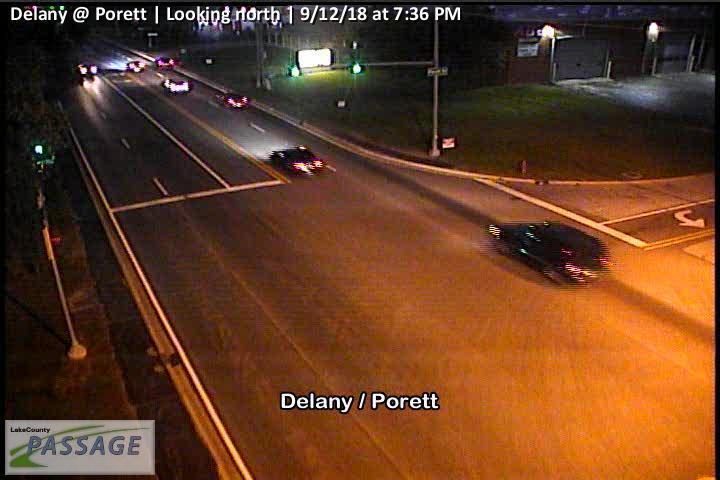SUV: (489, 221, 611, 288)
Sedan: (270, 146, 327, 177), (217, 92, 248, 109), (161, 78, 189, 93)
